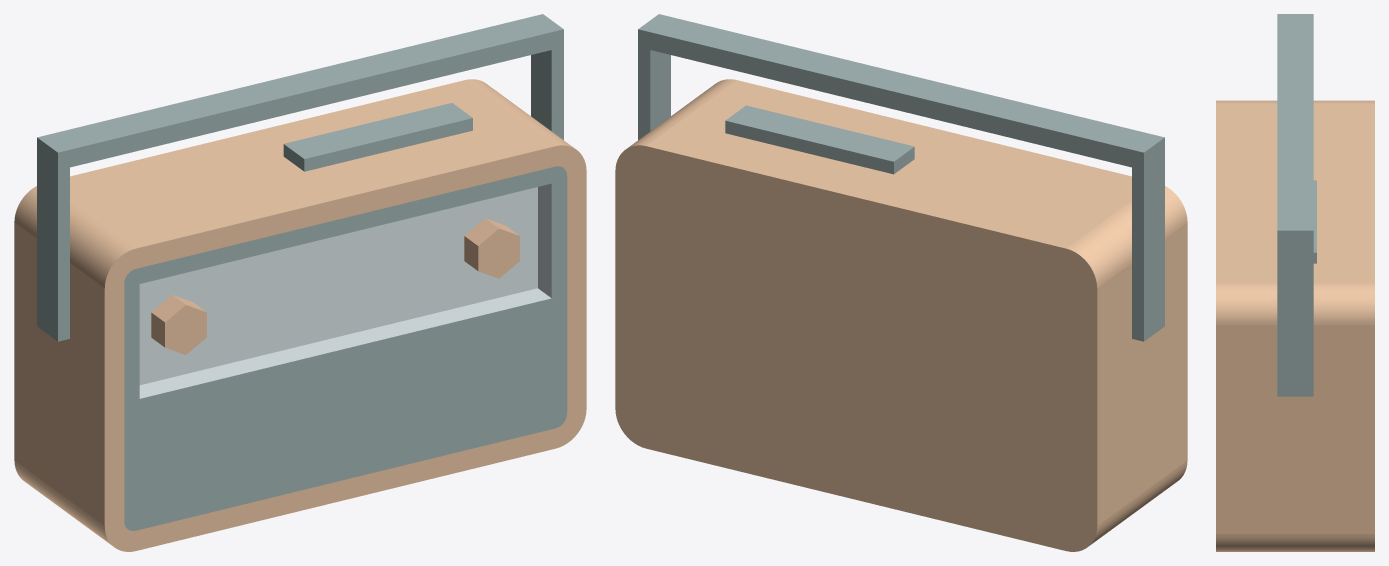
Rendered from radio.glb.
3 views of the same model, side by side, from view 1: azimuth 30°, elevation 25°; view 2: azimuth 150°, elevation 25°; view 3: azimuth 270°, elevation 25° (orthographic). The views are drawn at different scales.
Parts seen in each view (by area): view 1: radio(Clone); view 2: radio(Clone); view 3: radio(Clone).
Part boxes in pixels (box(x1,y1,x2,y2)): radio(Clone): box(14, 14, 586, 551); radio(Clone): box(615, 14, 1187, 551); radio(Clone): box(1216, 14, 1374, 551).
Bounding box in the file's own units: 0.315 × 0.2282 × 0.0975.
